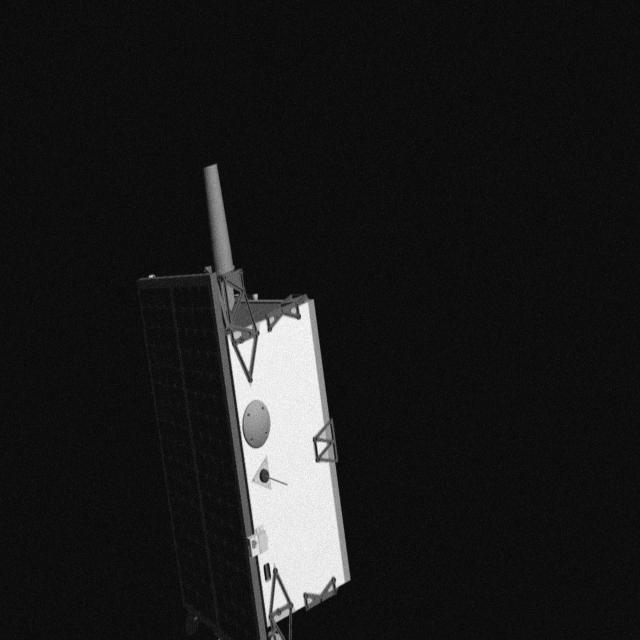satellite: (122, 158, 354, 640)
